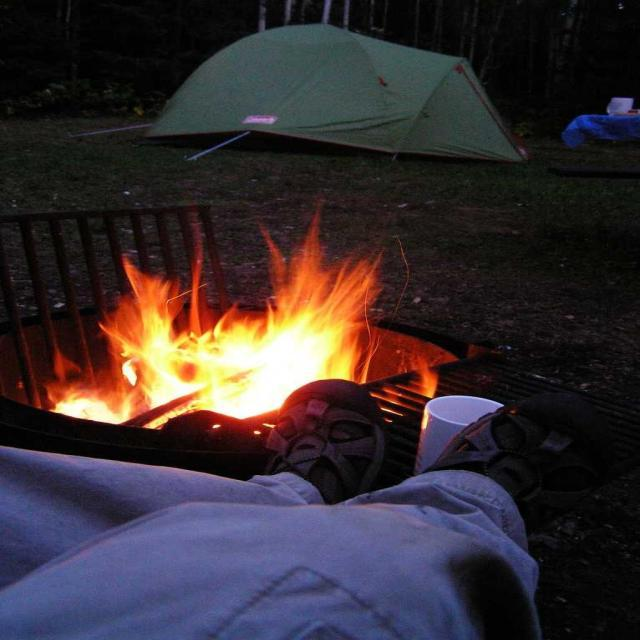Fire: (92, 245, 376, 428)
